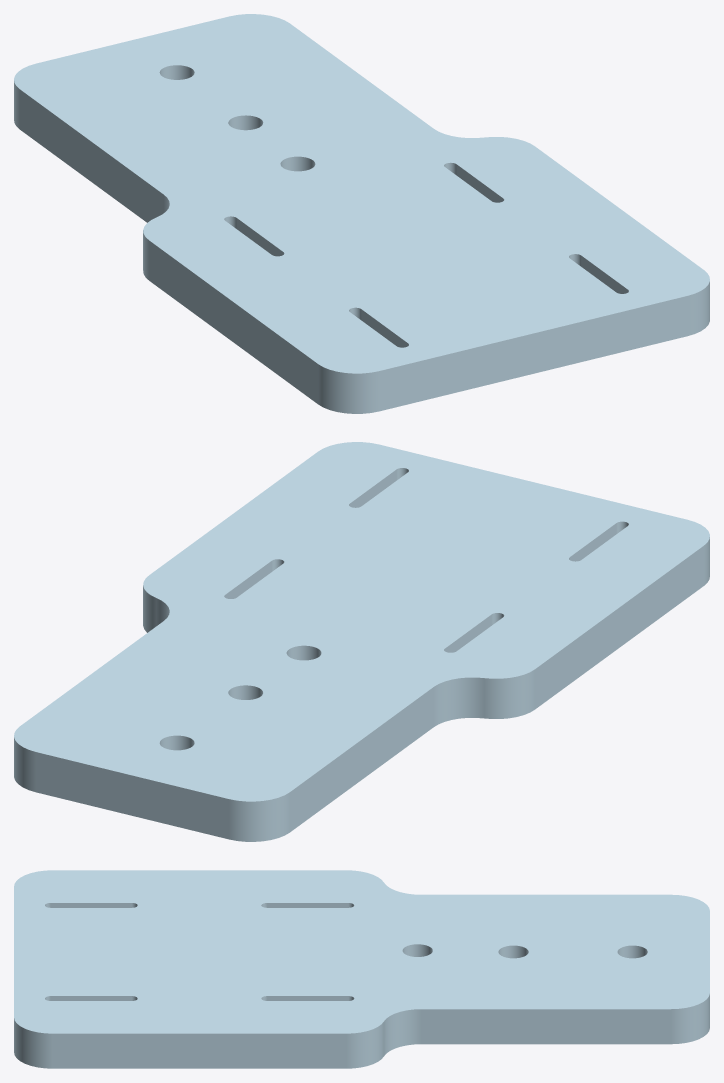
The picture shows the model from 3 angles, top to bottom: view 1: azimuth 30°, elevation 25°; view 2: azimuth 150°, elevation 25°; view 3: azimuth 270°, elevation 25°; orthographic projection. The views are drawn at different scales.
Visible parts, largest first — view 1: mesh51399, mesh51400, mesh51401, mesh51402, mesh51419, mesh51417; view 2: mesh51399, mesh51403, mesh51401, mesh51402, mesh51414, mesh51418, mesh51421, mesh51415; view 3: mesh51399, mesh51405, mesh51404, mesh51417, mesh51415, mesh51420, mesh51416, mesh51406, mesh51408, mesh51411, mesh51413, mesh51397 (+1 smaller).
Part boxes in pixels (x1,y1,x2,y2): mesh51399: (14,14,709,373); mesh51400: (379,296,687,411); mesh51401: (149,240,318,403); mesh51402: (20,89,163,222); mesh51419: (318,364,379,413); mesh51417: (687,281,709,335); mesh51399: (14,442,709,801); mesh51403: (36,752,228,839); mesh51401: (535,546,703,709); mesh51402: (290,687,433,832); mesh51414: (229,792,289,841); mesh51418: (484,669,534,718); mesh51421: (434,677,484,726); mesh51415: (14,737,36,792); mesh51399: (14,870,709,1033); mesh51405: (52,1033,346,1068); mesh51404: (421,1009,671,1044); mesh51417: (14,1018,52,1068); mesh51415: (671,994,709,1044); mesh51420: (384,1009,421,1055); mesh51416: (346,1022,383,1068); mesh51406: (267,903,348,907); mesh51408: (50,903,131,907); mesh51411: (50,996,131,1000); mesh51413: (267,996,348,1000); mesh51397: (498,945,528,958).
Size of the model in its own units: 0.0635 by 0.00635 by 0.1143.
